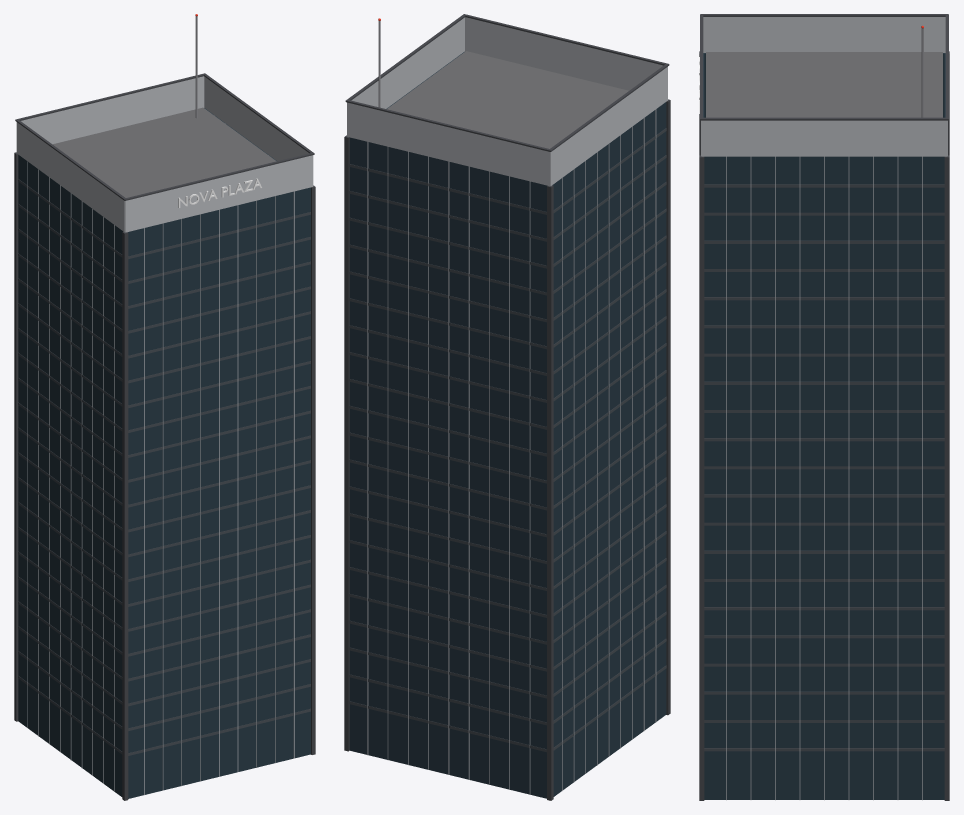
The model's file is bina_15_ust.glb.
3 renders of one model, left to right at view 1: azimuth 30°, elevation 25°; view 2: azimuth 150°, elevation 25°; view 3: azimuth 270°, elevation 25°, orthographic. The views are drawn at different scales.
Parts seen in each view (by area): view 1: P15_ust; view 2: P15_ust; view 3: P15_ust.
Part boxes in pixels (x1=…): P15_ust: x1=14, y1=14, x2=315, y2=800; P15_ust: x1=344, y1=14, x2=670, y2=800; P15_ust: x1=699, y1=14, x2=949, y2=800.
Bounding box in the file's own units: 30.6 × 103 × 30.6.
